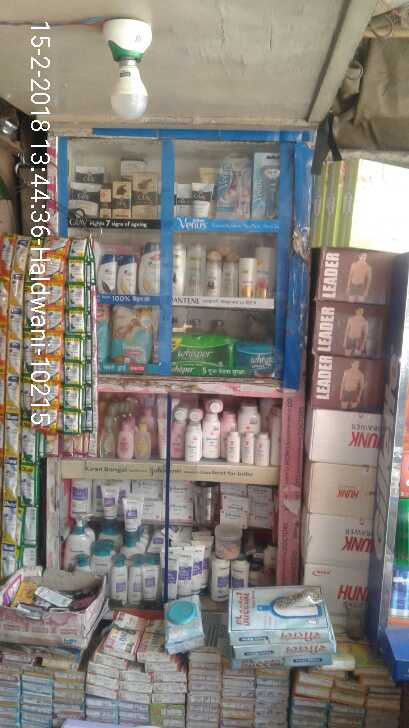venus: (218, 154, 252, 218), (252, 151, 280, 218)
